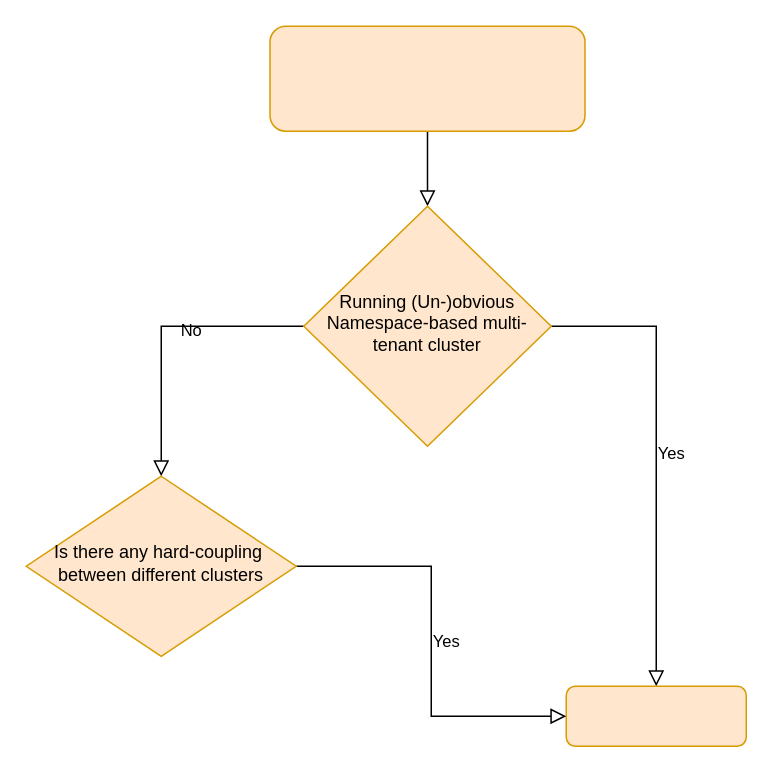
Image size: 773x773. Some labels were removed from this diagram. The centre of each missing label's shape, as x and y in pixels:
Continue to Step 2: the point at 655,715
Step 1: Do I use Namespace-Baed Multi-Tenancy: the point at 426,78
